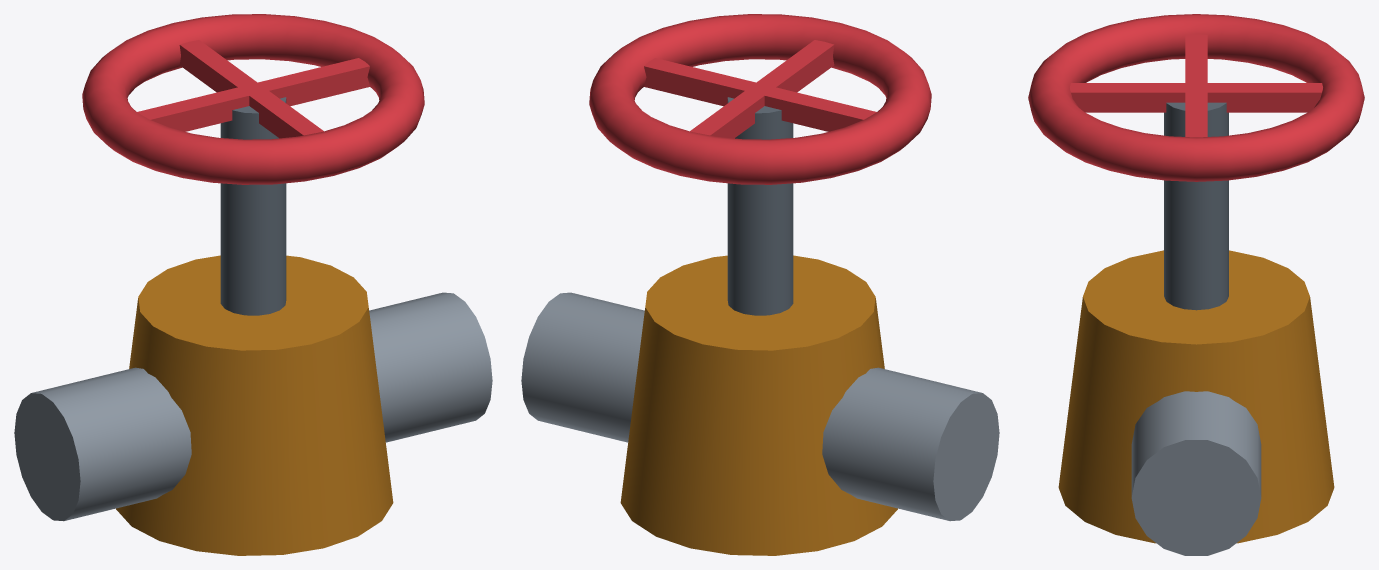
File: valve.glb
3 renders of one model, left to right at view 1: azimuth 30°, elevation 25°; view 2: azimuth 150°, elevation 25°; view 3: azimuth 270°, elevation 25°, orthographic.
Size of the model in its own units: 1.15 by 1.11 by 0.83.
